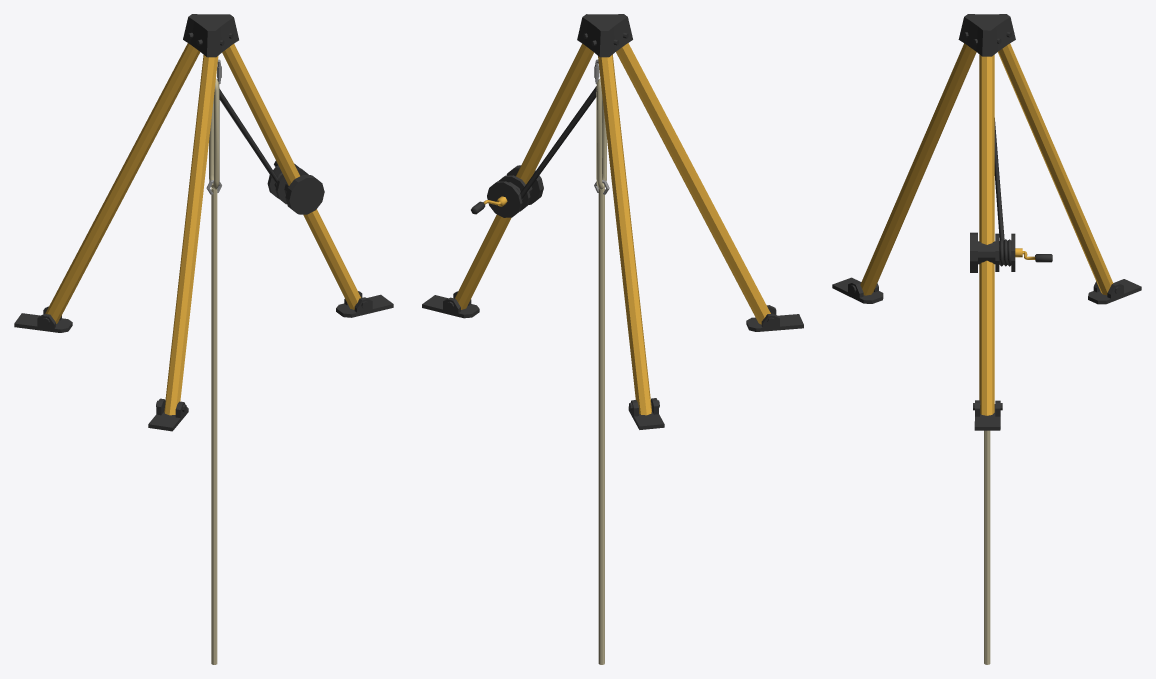
File: Grua.fbx
3 views of the same model, side by side, from view 1: azimuth 30°, elevation 25°; view 2: azimuth 150°, elevation 25°; view 3: azimuth 270°, elevation 25° (orthographic).
Parts seen in each view (by area): view 1: Cube, Cilindro.007; view 2: Cube, Cilindro.007; view 3: Cube, Cilindro.007.
Boxes of the visible parts, x1,y1,x2,y2 form: Cube: (14, 14, 393, 431); Cilindro.007: (211, 187, 217, 664); Cube: (422, 14, 803, 429); Cilindro.007: (598, 187, 604, 664); Cube: (832, 14, 1141, 430); Cilindro.007: (984, 430, 990, 664).
Bounding box in the file's own units: 908 × 795 × 1818.
